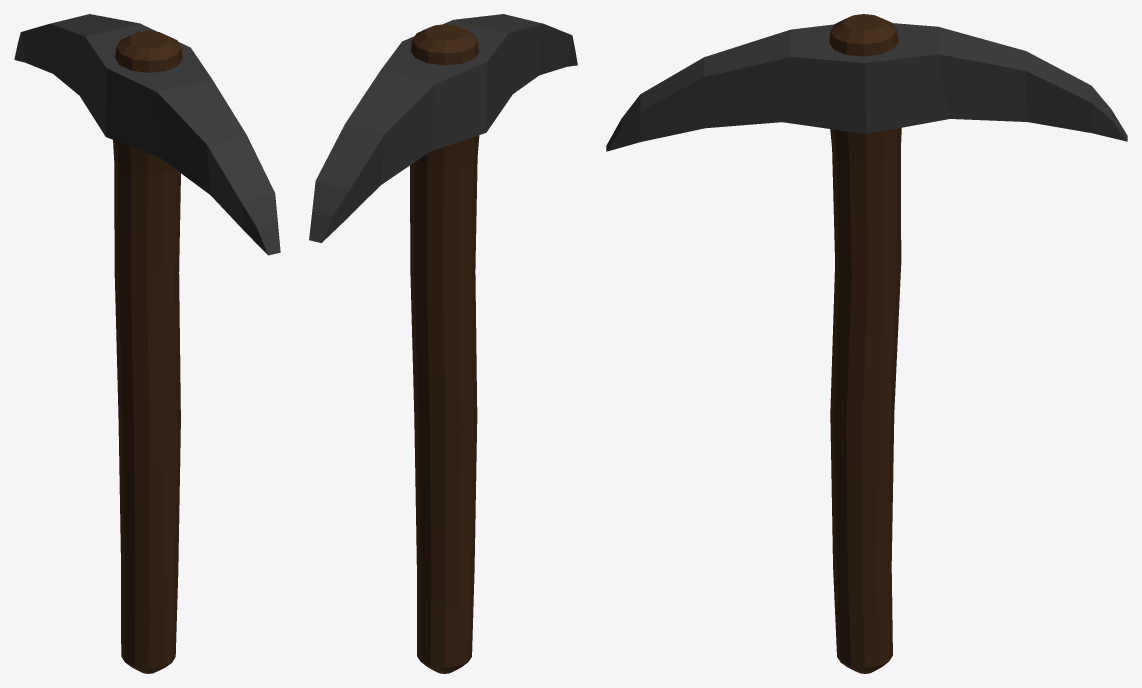
File: Pickaxe.fbx
3 renders of one model, left to right at view 1: azimuth 30°, elevation 25°; view 2: azimuth 150°, elevation 25°; view 3: azimuth 270°, elevation 25°, orthographic. The views are drawn at different scales.
Parts seen in each view (by area): view 1: Pickaxe; view 2: Pickaxe; view 3: Pickaxe.
Boxes of the visible parts, x1=… form: Pickaxe: x1=14, y1=14, x2=280, y2=673; Pickaxe: x1=309, y1=14, x2=577, y2=673; Pickaxe: x1=606, y1=14, x2=1127, y2=673.
Size of the model in its own units: 0.4285 by 3.07 by 2.24.
